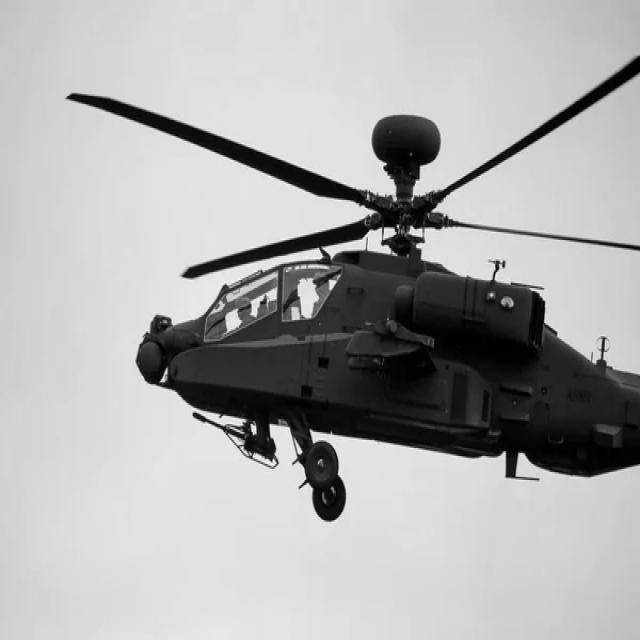Helicopter: (69, 56, 640, 522)
